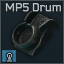MP5 Drum rear sight: (0, 0, 64, 64)
